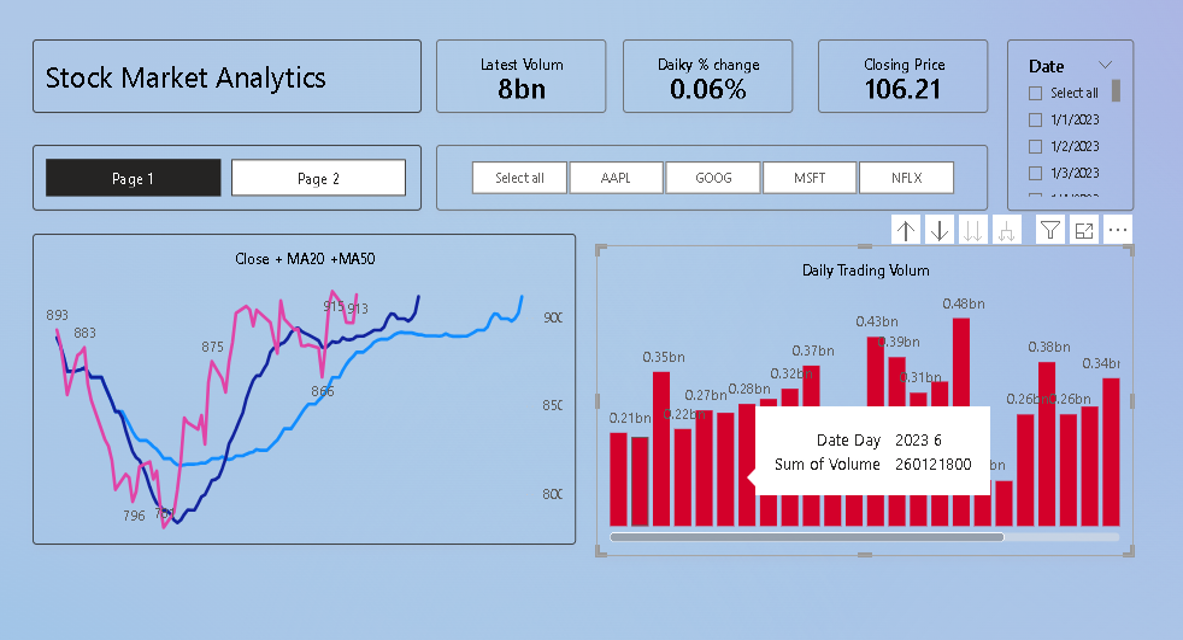

The dashboard page shown, as its layout file describes it:
{"tool":"powerbi","page":{"name":"Page 1","canvas":[1280,720],"ordinal":0},"visuals":[{"type":"lineChart","title":" Close + MA20 +MA50","fields":{"Y":["Measure.MA50","Measure.MA20"],"Category":["calendar.Date.Variation.Date Hierarchy.Year","calendar.Date.Variation.Date Hierarchy.Month","calendar.Date.Variation.Date Hierarchy.Day"],"Y2":["Sum(stock-market.Close)"]},"box":[107.1,234.7,513.8,279.1],"z":0},{"type":"clusteredColumnChart","title":"Daily  Trading  Volum ","fields":{"Y":["Sum(stock-market.Volume)"],"Category":["calendar.Date.Variation.Date Hierarchy.Year","calendar.Date.Variation.Date Hierarchy.Day"]},"box":[640.3,244.9,508.1,279.1],"z":1000},{"type":"card","title":"Latest Volum","fields":{"Values":["Measure.Total Volum"]},"box":[488.7,60.4,160.6,66.1],"z":2000},{"type":"card","title":"Closing Price","fields":{"Values":["Measure.Last close"]},"box":[849.9,60.4,160.6,66.1],"z":3000},{"type":"slicer","fields":{"Values":["stock-market.Ticker"]},"box":[488.7,154.9,521.8,59.2],"z":4000},{"type":"slicer","fields":{"Values":["calendar.Date"]},"box":[1028.7,60.4,119.6,153.8],"z":5000},{"type":"card","title":"Daiky % change","fields":{"Values":["Measure.Daily % Change"]},"box":[665.3,60.4,160.6,66.1],"z":6000},{"type":"pageNavigator","box":[107.1,154.9,368,59.2],"z":6001},{"type":"textbox","box":[107.1,60.4,368,66.1],"z":6002}]}

Visuals, with their boxes on the page's 1280x720 design canvas (x1, y1, x2, y2). These are canvas units, not pixel positions in the 1183x640 screenshot, which may show the page scaled, cropped or inside an application window:
" Close + MA20 +MA50" lineChart: <bbox>107, 235, 621, 514</bbox>
"Daily  Trading  Volum " clusteredColumnChart: <bbox>640, 245, 1148, 524</bbox>
"Latest Volum" card: <bbox>489, 60, 649, 126</bbox>
"Closing Price" card: <bbox>850, 60, 1010, 126</bbox>
slicer - stock-market.Ticker: <bbox>489, 155, 1010, 214</bbox>
slicer - calendar.Date: <bbox>1029, 60, 1148, 214</bbox>
"Daiky % change" card: <bbox>665, 60, 826, 126</bbox>
pageNavigator: <bbox>107, 155, 475, 214</bbox>
textbox: <bbox>107, 60, 475, 126</bbox>
